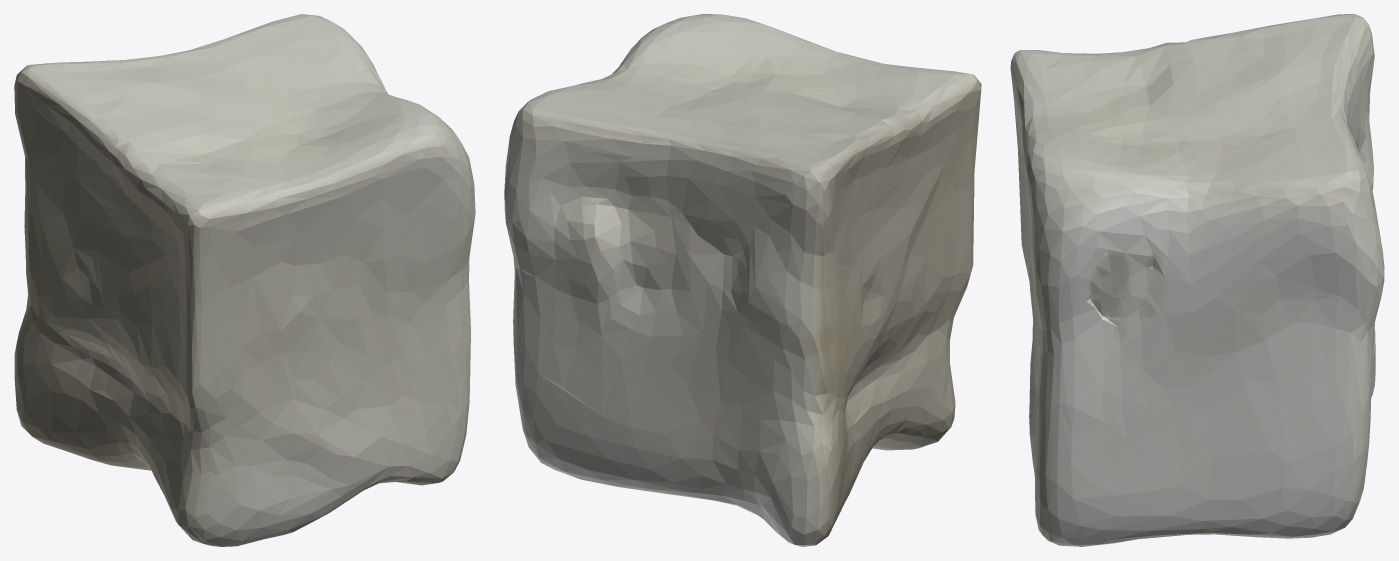
File: tofu.glb
3 renders of one model, left to right at view 1: azimuth 30°, elevation 25°; view 2: azimuth 150°, elevation 25°; view 3: azimuth 270°, elevation 25°, orthographic. The views are drawn at different scales.
Visible parts, largest first — view 1: world; view 2: world; view 3: world.
Boxes of the visible parts, x1,y1,x2,y2 form: world: (14, 14, 475, 546); world: (504, 14, 981, 546); world: (1010, 14, 1384, 546).
Bounding box in the file's own units: 0.2655 × 0.3092 × 0.2562.
Materials: 1 (1 with a texture image).
